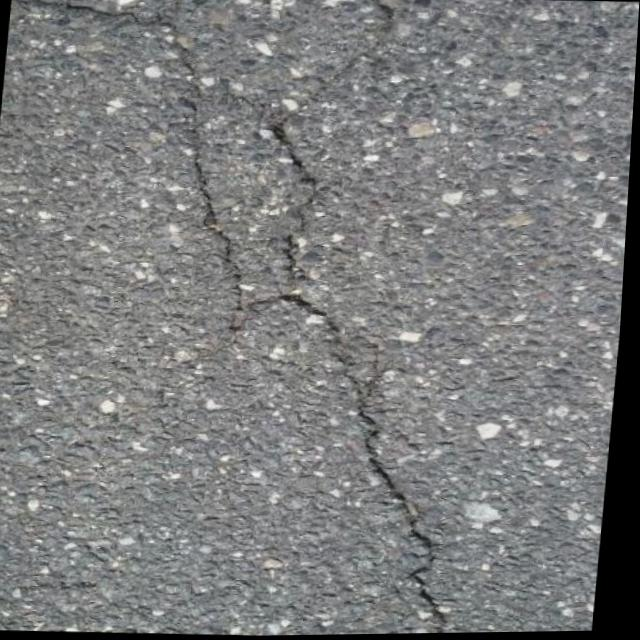Crack: (0, 0, 345, 308), (247, 283, 499, 637)
